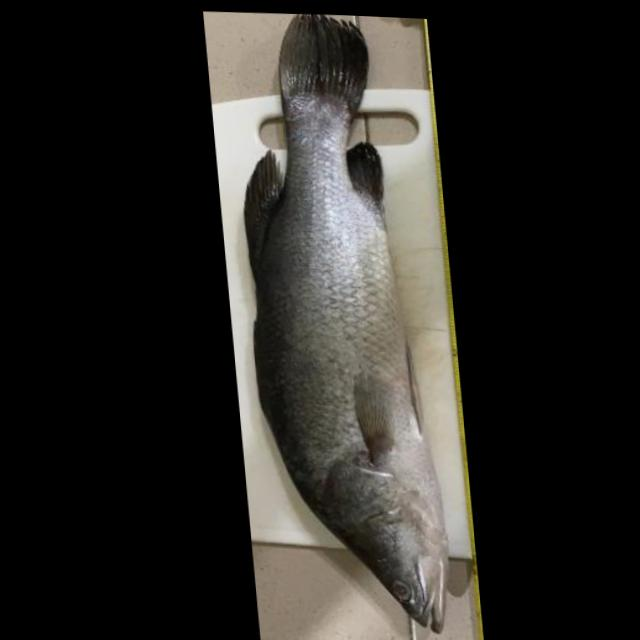Seabass: (223, 10, 455, 637)
